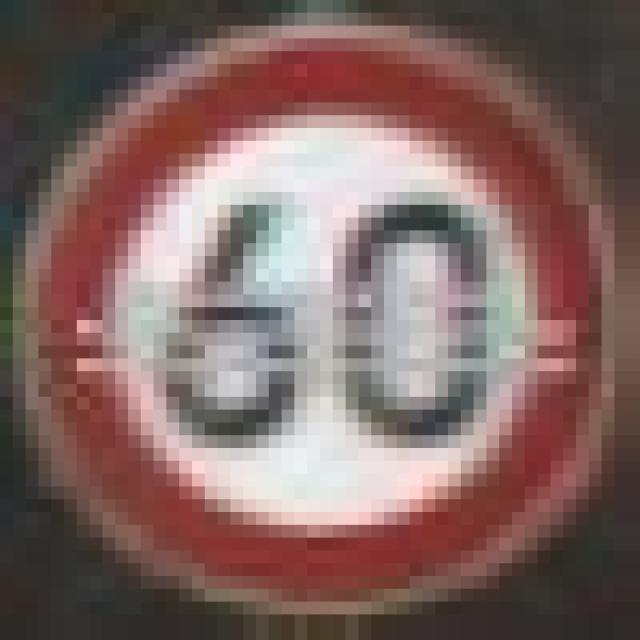speed_limit_40: (38, 26, 576, 550)
